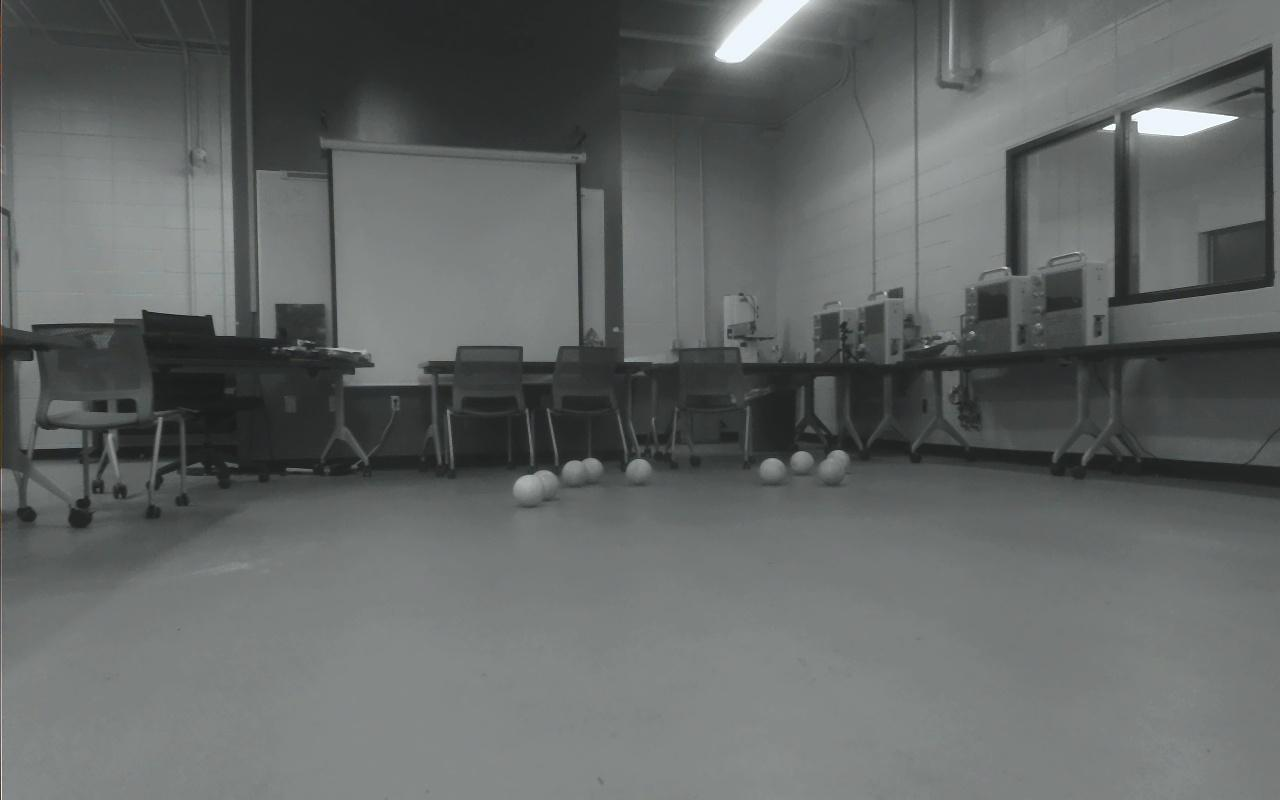Fuel: (512, 474, 544, 507), (530, 470, 559, 501), (759, 457, 786, 485), (818, 457, 845, 485), (561, 459, 588, 486), (625, 459, 652, 486), (579, 457, 604, 483), (788, 450, 813, 475), (826, 449, 851, 473)
